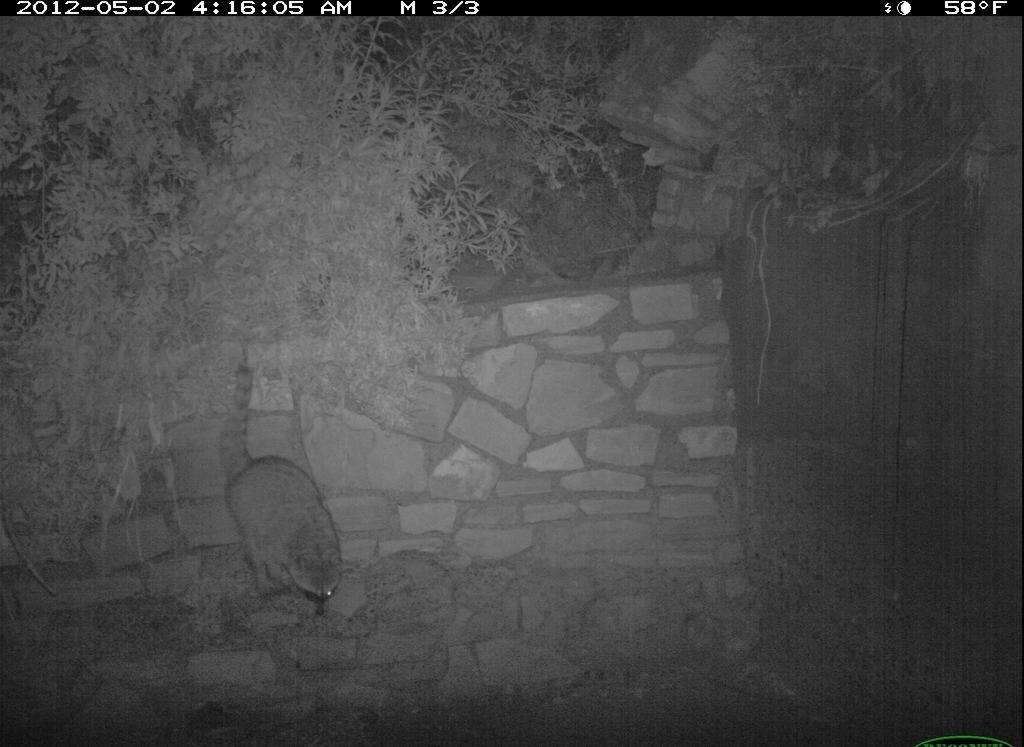raccoon: (205, 363, 374, 626)
